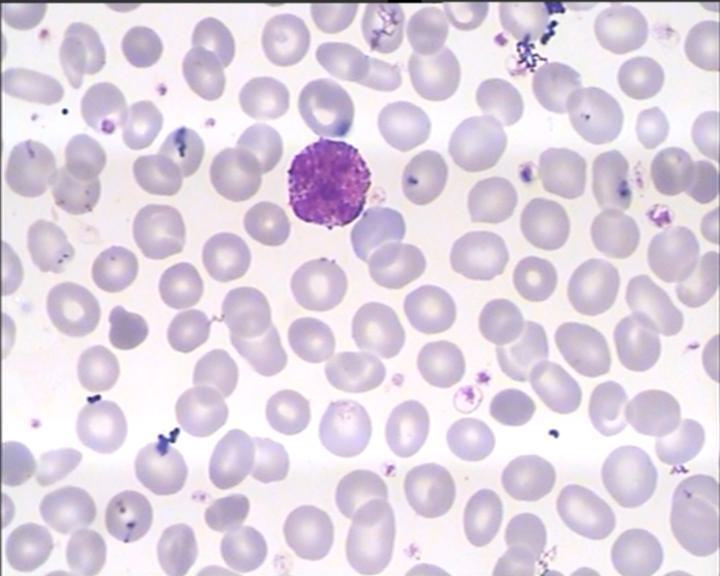baso: (282, 130, 373, 228)
